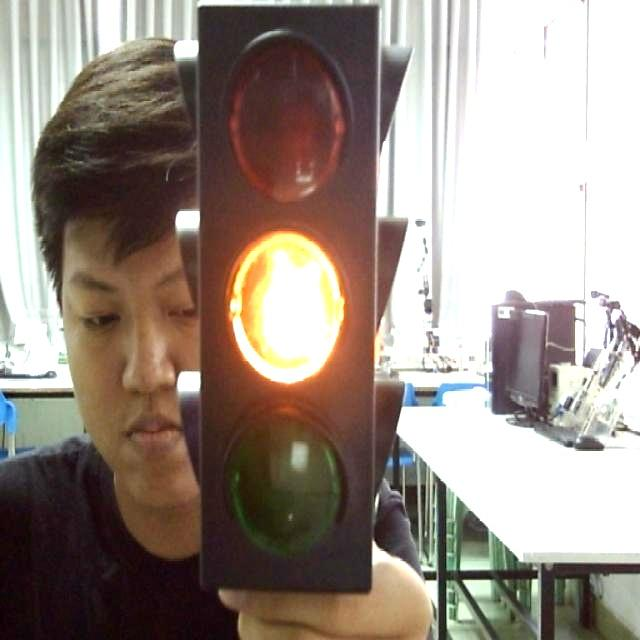Yellow: (192, 6, 390, 597)
